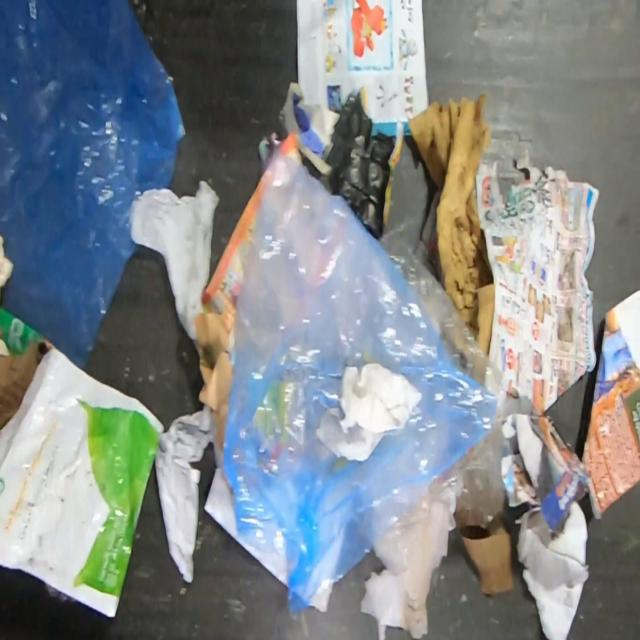cardboard: (408, 94, 494, 356), (0, 306, 56, 429), (192, 305, 234, 467), (456, 515, 514, 595)
rigid_plastic: (324, 92, 395, 237)
soft_plastic: (220, 137, 497, 612), (0, 348, 166, 617), (378, 229, 508, 419), (373, 419, 504, 573)
